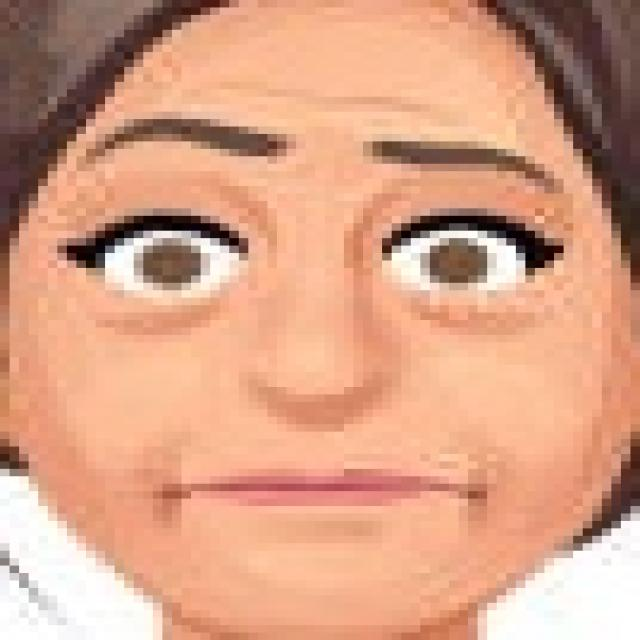Anxiety: (2, 0, 630, 633)
